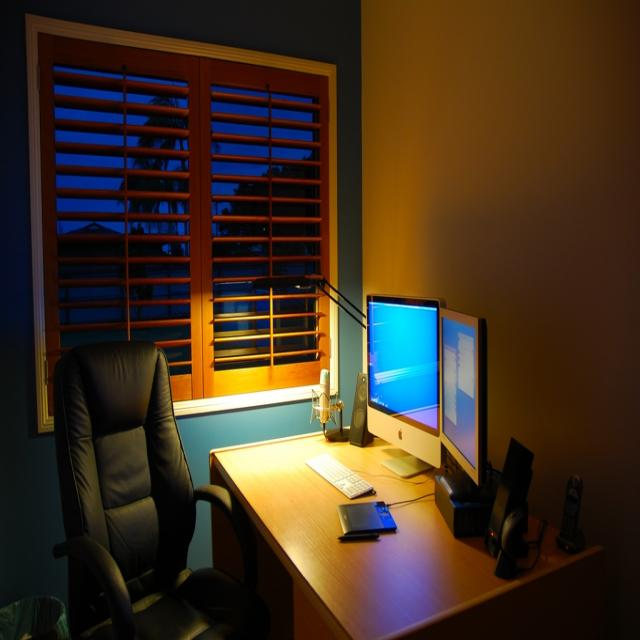chair: (53, 340, 269, 636)
desk: (208, 420, 603, 640)
keyboard: (304, 452, 376, 500)
laptop: (336, 500, 398, 540)
tv: (367, 296, 442, 474), (438, 306, 488, 492)
